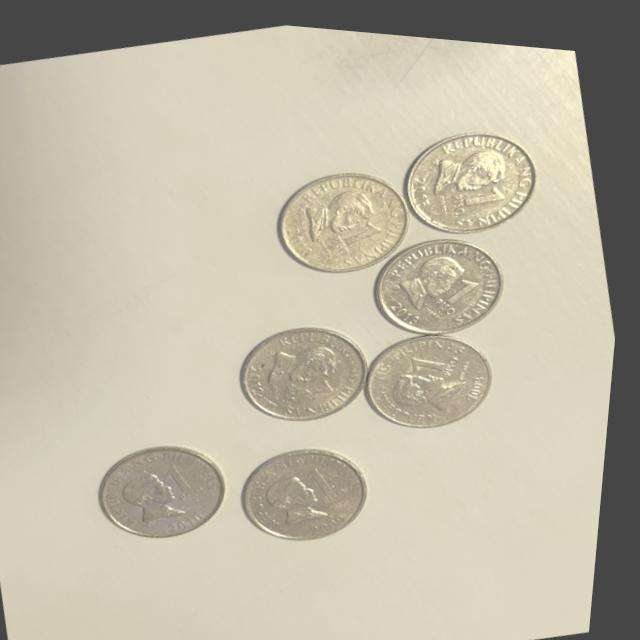1_Old_Front: (322, 207, 398, 257), (443, 167, 515, 214), (428, 263, 494, 314), (306, 451, 364, 503), (408, 332, 471, 379), (281, 358, 347, 402), (167, 454, 215, 502)
